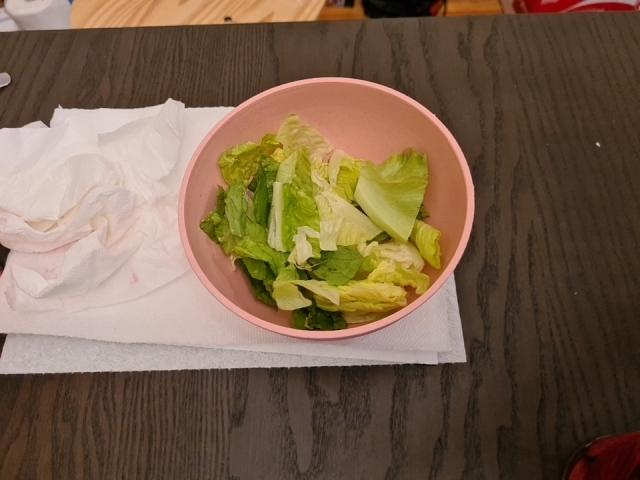kichen waste: (200, 115, 441, 330)
